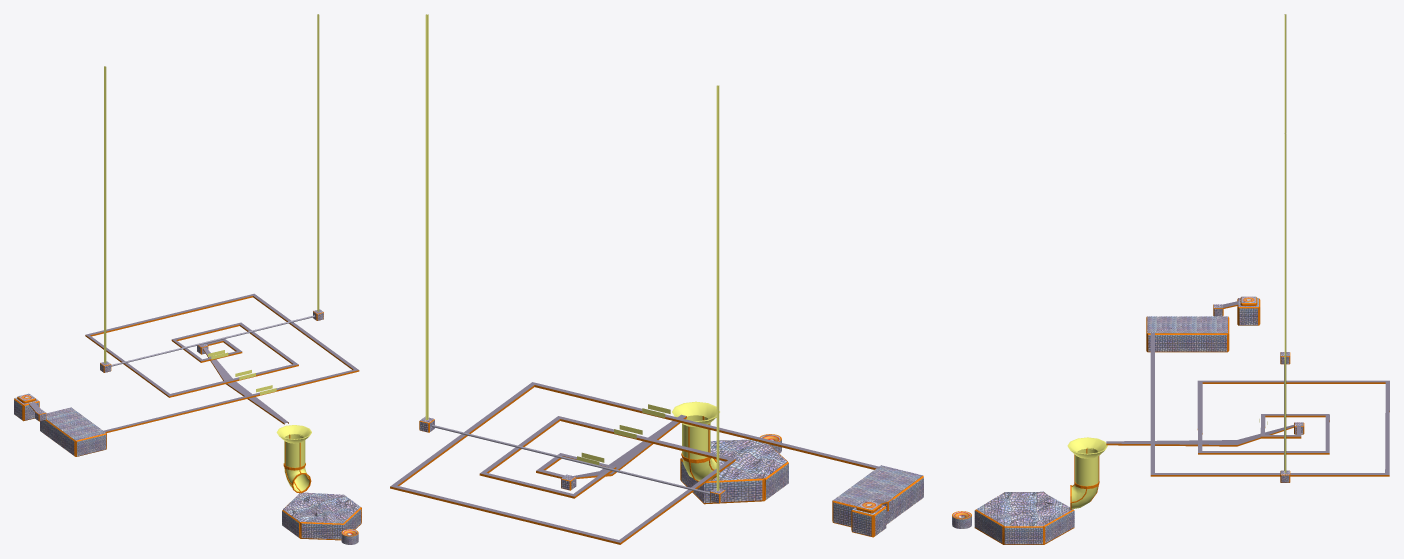
Rendered from Level39.fbx.
3 views of the same model, side by side, from view 1: azimuth 30°, elevation 25°; view 2: azimuth 150°, elevation 25°; view 3: azimuth 270°, elevation 25° (orthographic). The views are drawn at different scales.
Visible parts, largest first — view 1: Level39; view 2: Level39; view 3: Level39.
Part boxes in pixels (box(x1,y1,x2,y2)): Level39: box(14, 14, 361, 544); Level39: box(390, 14, 923, 544); Level39: box(952, 14, 1389, 544).
Bounding box in the file's own units: 6102 × 7273 × 6324.
11 materials, 5 textured.
